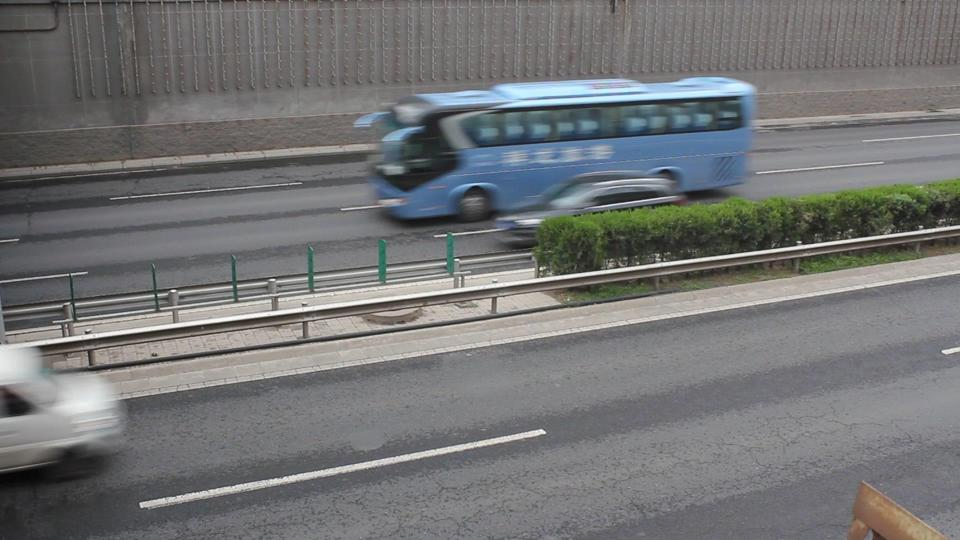bus: (354, 75, 759, 223)
car: (0, 344, 129, 479), (492, 173, 689, 250)
